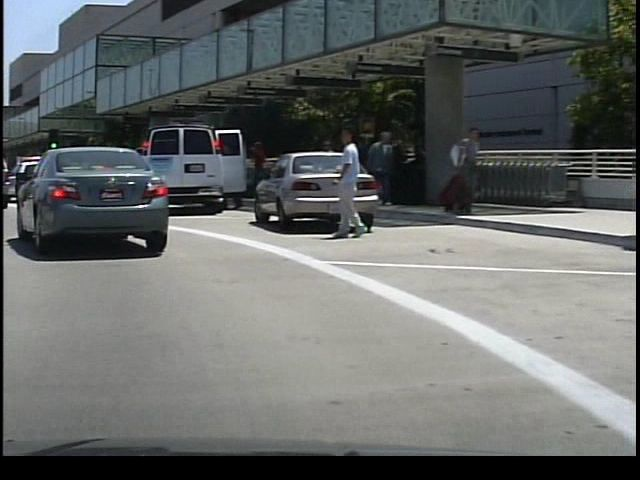person: (324, 122, 365, 240), (441, 122, 477, 215), (366, 125, 398, 210), (244, 136, 267, 202)
